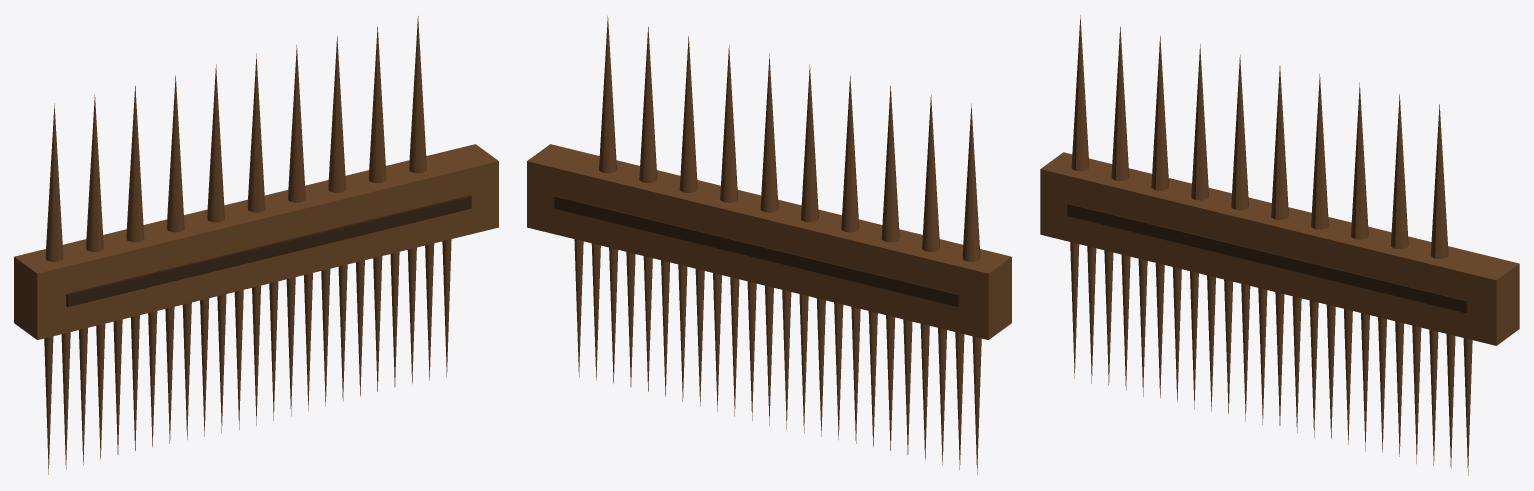
The picture shows the model from 3 angles, left to right: view 1: azimuth 30°, elevation 25°; view 2: azimuth 150°, elevation 25°; view 3: azimuth 330°, elevation 25°; orthographic projection.
Parts seen in each view (by area): view 1: OBJ-010 — DEMO NON_VALIDE; view 2: OBJ-010 — DEMO NON_VALIDE; view 3: OBJ-010 — DEMO NON_VALIDE.
Boxes of the visible parts, x1,y1,x2,y2 form: OBJ-010 — DEMO NON_VALIDE: [14, 16, 498, 474]; OBJ-010 — DEMO NON_VALIDE: [527, 16, 1011, 474]; OBJ-010 — DEMO NON_VALIDE: [1040, 15, 1519, 475].
Size of the model in its own units: 2 by 1.54 by 0.2.
